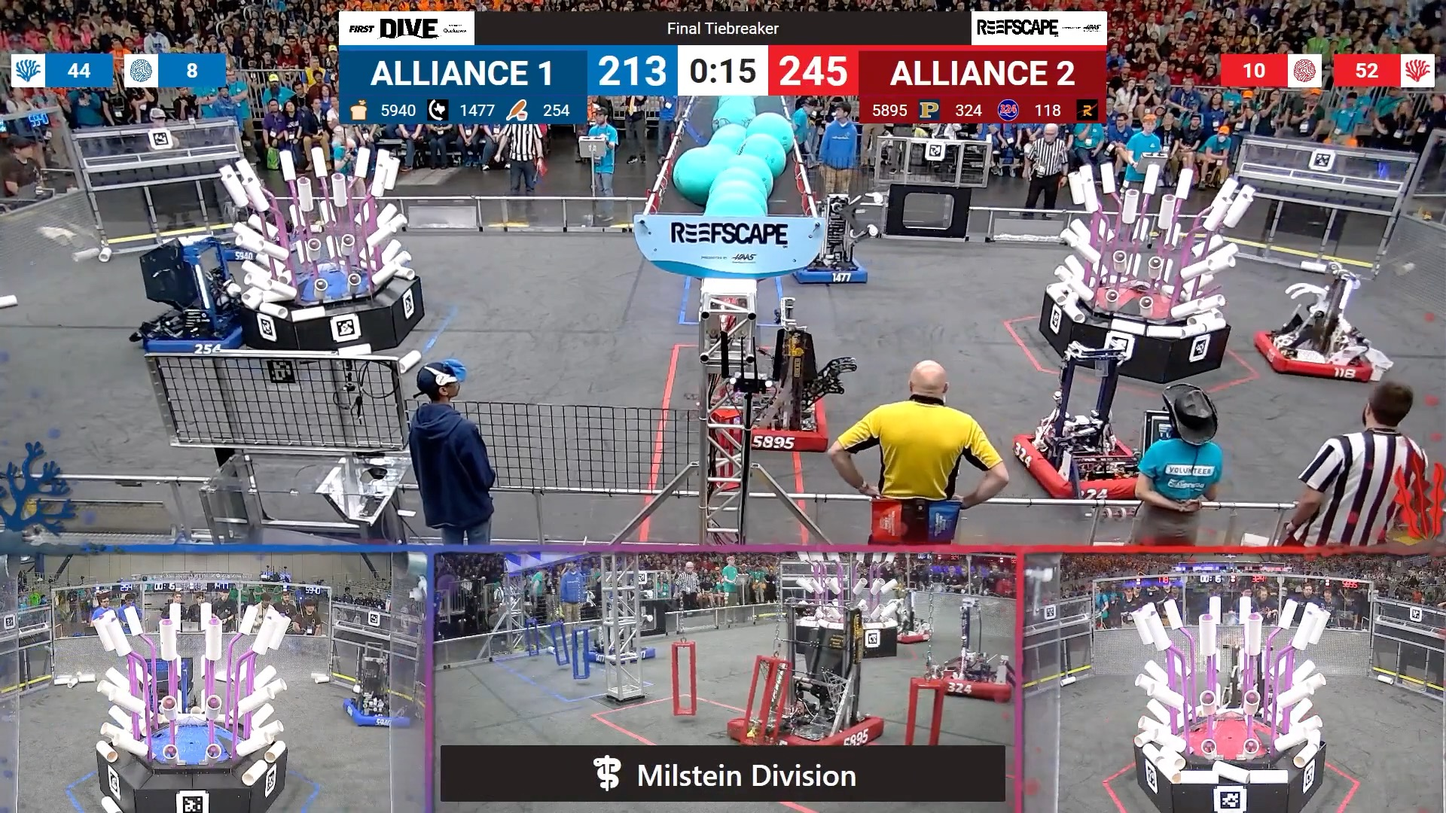bumpers: (1007, 428, 1143, 501), (1239, 326, 1382, 390), (743, 396, 840, 456), (144, 311, 252, 362), (740, 711, 883, 747), (930, 664, 1020, 703), (337, 697, 418, 734), (789, 253, 873, 288), (584, 644, 661, 667), (883, 626, 930, 644)
